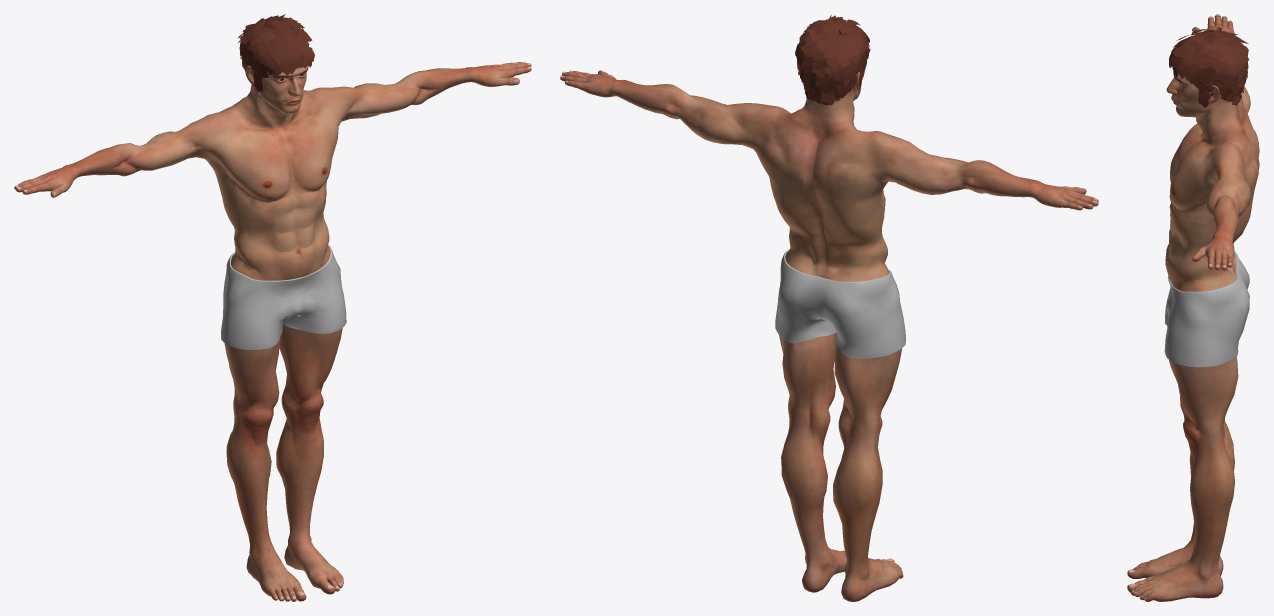
File: Roman_ROMetrics.glb
3 renders of one model, left to right at view 1: azimuth 30°, elevation 25°; view 2: azimuth 150°, elevation 25°; view 3: azimuth 270°, elevation 25°, orthographic. The views are drawn at different scales.
Visible parts, largest first — view 1: CC_Base_Body_CARLO.001, Boxers_CARLO.001, Hair_CARLO.001; view 2: CC_Base_Body_CARLO.001, Boxers_CARLO.001, Hair_CARLO.001; view 3: CC_Base_Body_CARLO.001, Boxers_CARLO.001, Hair_CARLO.001.
Part boxes in pixels (bbox=[...]): CC_Base_Body_CARLO.001: bbox=[14, 62, 531, 601]; Boxers_CARLO.001: bbox=[221, 245, 346, 349]; Hair_CARLO.001: bbox=[238, 14, 314, 91]; CC_Base_Body_CARLO.001: bbox=[560, 70, 1098, 601]; Boxers_CARLO.001: bbox=[775, 250, 905, 358]; Hair_CARLO.001: bbox=[795, 14, 870, 105]; CC_Base_Body_CARLO.001: bbox=[1127, 14, 1259, 601]; Boxers_CARLO.001: bbox=[1164, 252, 1249, 367]; Hair_CARLO.001: bbox=[1169, 27, 1249, 107].
Bounding box in the file's own units: 1.81 × 1.85 × 0.3992.
15 materials, 14 textured.
